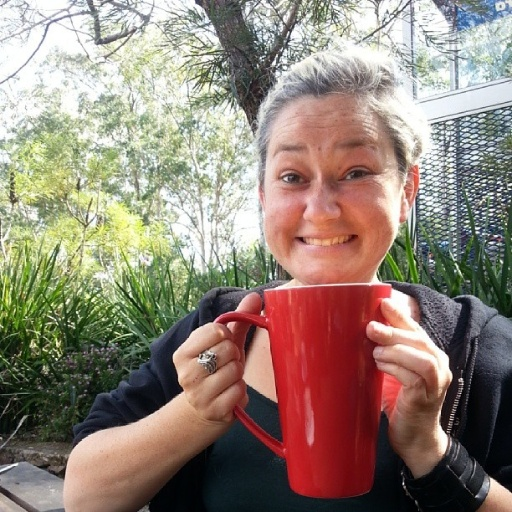hand: (371, 284, 457, 475), (170, 289, 262, 427)
